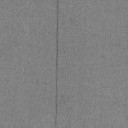surface scratch: (54, 0, 60, 128)
